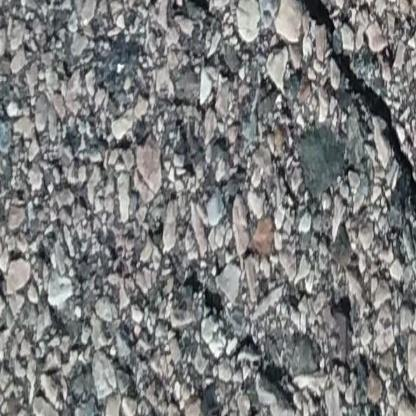Cracks: (261, 0, 416, 229)
